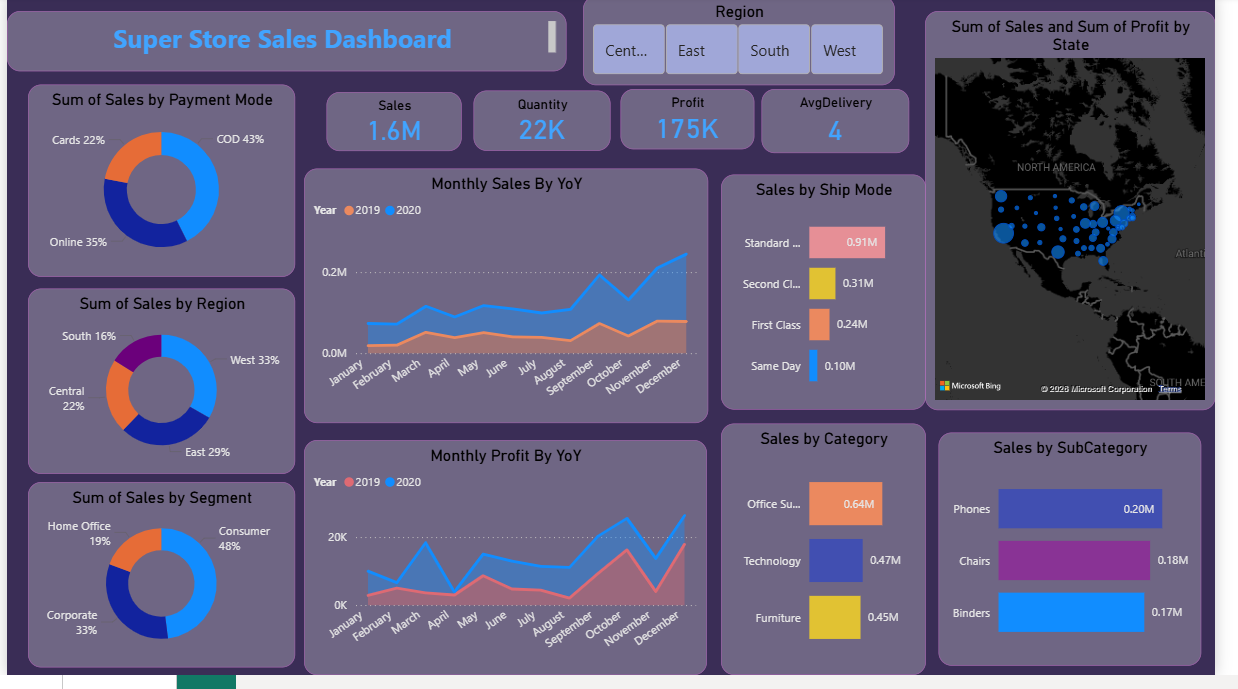

This screenshot's page, from the dashboard's own definition file:
{"tool":"powerbi","page":{"name":"Page 1","canvas":[1280,720],"ordinal":0},"visuals":[{"type":"clusteredBarChart","title":"Sales by Category","fields":{"Category":["SuperStore_Sales_Dataset.Category"],"Y":["Sum(SuperStore_Sales_Dataset.Sales)"]},"box":[757.8,453.5,217.3,266.5],"z":0},{"type":"clusteredBarChart","title":"Sales by SubCategory","fields":{"Category":["SuperStore_Sales_Dataset.Sub-Category"],"Y":["Sum(SuperStore_Sales_Dataset.Sales)"]},"box":[988.2,462.7,278.4,247.1],"z":1000},{"type":"clusteredBarChart","title":"Sales by Ship Mode","fields":{"Category":["SuperStore_Sales_Dataset.Ship Mode"],"Y":["Sum(SuperStore_Sales_Dataset.Sales)"]},"box":[757.8,189,217.3,249.5],"z":2000},{"type":"stackedAreaChart","title":"Monthly Sales By YoY","fields":{"Y":["Sum(SuperStore_Sales_Dataset.Sales)"],"Category":["SuperStore_Sales_Dataset.Order Date.Variation.Date Hierarchy.Month","SuperStore_Sales_Dataset.Order Date.Variation.Date Hierarchy.Day"],"Series":["SuperStore_Sales_Dataset.Order Date.Variation.Date Hierarchy.Year"]},"box":[315.6,183.3,429,270.2],"z":3000},{"type":"stackedAreaChart","title":"Monthly Profit By YoY","fields":{"Category":["SuperStore_Sales_Dataset.Order Date.Variation.Date Hierarchy.Month","SuperStore_Sales_Dataset.Order Date.Variation.Date Hierarchy.Day"],"Series":["SuperStore_Sales_Dataset.Order Date.Variation.Date Hierarchy.Year"],"Y":["Sum(SuperStore_Sales_Dataset.Profit)"]},"box":[315.6,470.6,427.1,249.5],"z":4000},{"type":"map","fields":{"Category":["SuperStore_Sales_Dataset.State"],"Size":["Sum(SuperStore_Sales_Dataset.Sales)"]},"box":[973.2,15.1,308,423.3],"z":5000},{"type":"donutChart","fields":{"Category":["SuperStore_Sales_Dataset.Segment"],"Y":["Sum(SuperStore_Sales_Dataset.Sales)"]},"box":[22.7,515.9,283.5,196.5],"z":6000},{"type":"donutChart","fields":{"Category":["SuperStore_Sales_Dataset.Payment Mode"],"Y":["Sum(SuperStore_Sales_Dataset.Sales)"]},"box":[22.7,94.5,283.5,204.1],"z":7000},{"type":"advancedSlicerVisual","fields":{"Values":["SuperStore_Sales_Dataset.Region"]},"box":[610.4,0,330.7,94.5],"z":8000},{"type":"textbox","box":[0,15.1,593.4,64.3],"z":9000},{"type":"card","title":"Sales","fields":{"Values":["Sum(SuperStore_Sales_Dataset.Sales)"]},"box":[338.3,102,143.6,62.4],"z":10000},{"type":"card","title":"Quantity","fields":{"Values":["Sum(SuperStore_Sales_Dataset.Quantity)"]},"box":[495.1,100.2,145.5,64.3],"z":11000},{"type":"card","title":"Profit","fields":{"Values":["Sum(SuperStore_Sales_Dataset.Profit)"]},"box":[650.1,98.3,141.7,64.3],"z":12000},{"type":"card","title":"AvgDelivery","fields":{"Values":["Avg(SuperStore_Sales_Dataset.AvgDelivery)"]},"box":[799.4,98.3,156.9,68],"z":13000},{"type":"donutChart","fields":{"Category":["SuperStore_Sales_Dataset.Region"],"Y":["Sum(SuperStore_Sales_Dataset.Sales)"]},"box":[22.7,309.9,283.5,196.5],"z":14000}]}

Visuals, with their boxes in screenshot pixels (x1, y1, x2, y2), scaled from the page's 1280x720 canvas onto the 1238x689 screenshot:
"Sales by Category" clusteredBarChart: (left=733, top=434, right=943, bottom=688)
"Sales by SubCategory" clusteredBarChart: (left=956, top=443, right=1225, bottom=679)
"Sales by Ship Mode" clusteredBarChart: (left=733, top=181, right=943, bottom=420)
"Monthly Sales By YoY" stackedAreaChart: (left=305, top=175, right=720, bottom=434)
"Monthly Profit By YoY" stackedAreaChart: (left=305, top=450, right=718, bottom=688)
map - SuperStore_Sales_Dataset.State x Sum(SuperStore_Sales_Dataset.Sales): (left=941, top=14, right=1237, bottom=420)
donutChart - SuperStore_Sales_Dataset.Segment x Sum(SuperStore_Sales_Dataset.Sales): (left=22, top=494, right=296, bottom=682)
donutChart - SuperStore_Sales_Dataset.Payment Mode x Sum(SuperStore_Sales_Dataset.Sales): (left=22, top=90, right=296, bottom=286)
advancedSlicerVisual - SuperStore_Sales_Dataset.Region: (left=590, top=0, right=910, bottom=90)
textbox: (left=0, top=14, right=574, bottom=76)
"Sales" card: (left=327, top=98, right=466, bottom=157)
"Quantity" card: (left=479, top=96, right=620, bottom=157)
"Profit" card: (left=629, top=94, right=766, bottom=156)
"AvgDelivery" card: (left=773, top=94, right=925, bottom=159)
donutChart - SuperStore_Sales_Dataset.Region x Sum(SuperStore_Sales_Dataset.Sales): (left=22, top=297, right=296, bottom=485)
